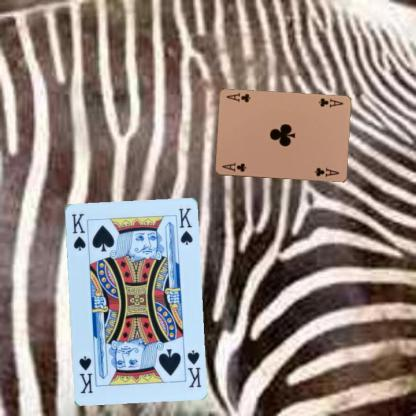Ac: (316, 96, 344, 109), (220, 160, 247, 173)
Ks: (68, 210, 87, 252), (184, 348, 202, 388)
